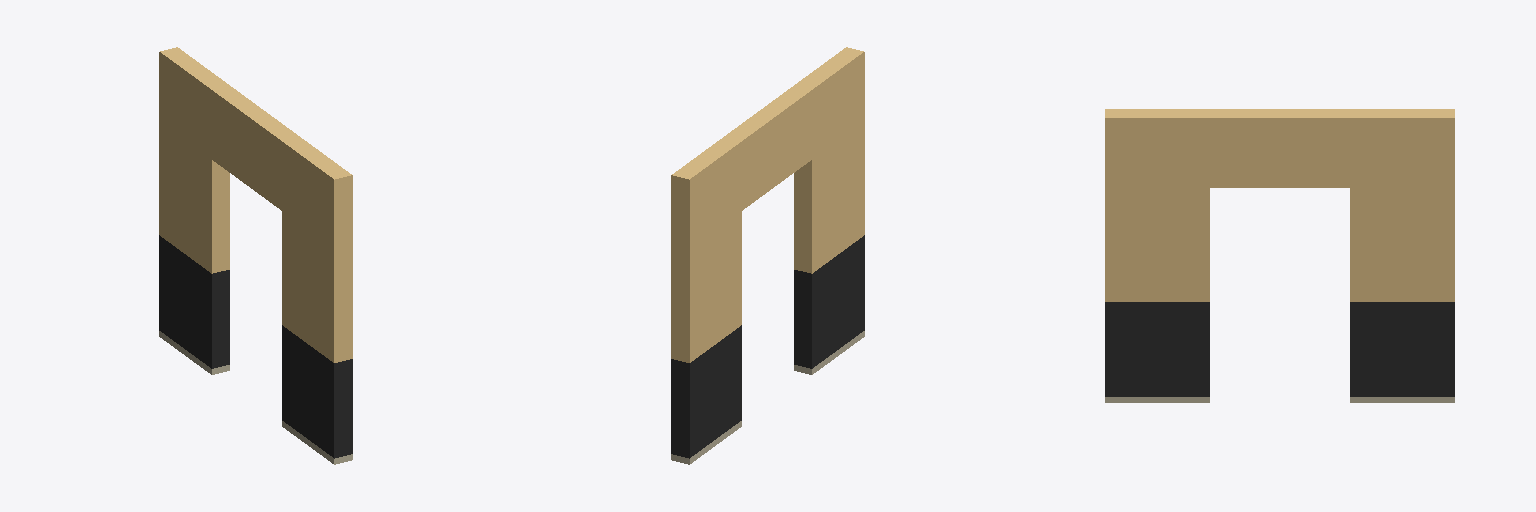
The picture shows the model from 3 angles: view 1: azimuth 30°, elevation 25°; view 2: azimuth 150°, elevation 25°; view 3: azimuth 270°, elevation 25°; orthographic projection.
Parts seen in each view (by area): view 1: object 1; view 2: object 1; view 3: object 1.
Part boxes in pixels (left/top/right/bottom): object 1: left=159, top=47, right=352, bottom=464; object 1: left=671, top=47, right=864, bottom=464; object 1: left=1105, top=109, right=1454, bottom=402.
Bounding box in the file's own units: 0.3 × 4.5 × 5.
1 materials, 1 textured.